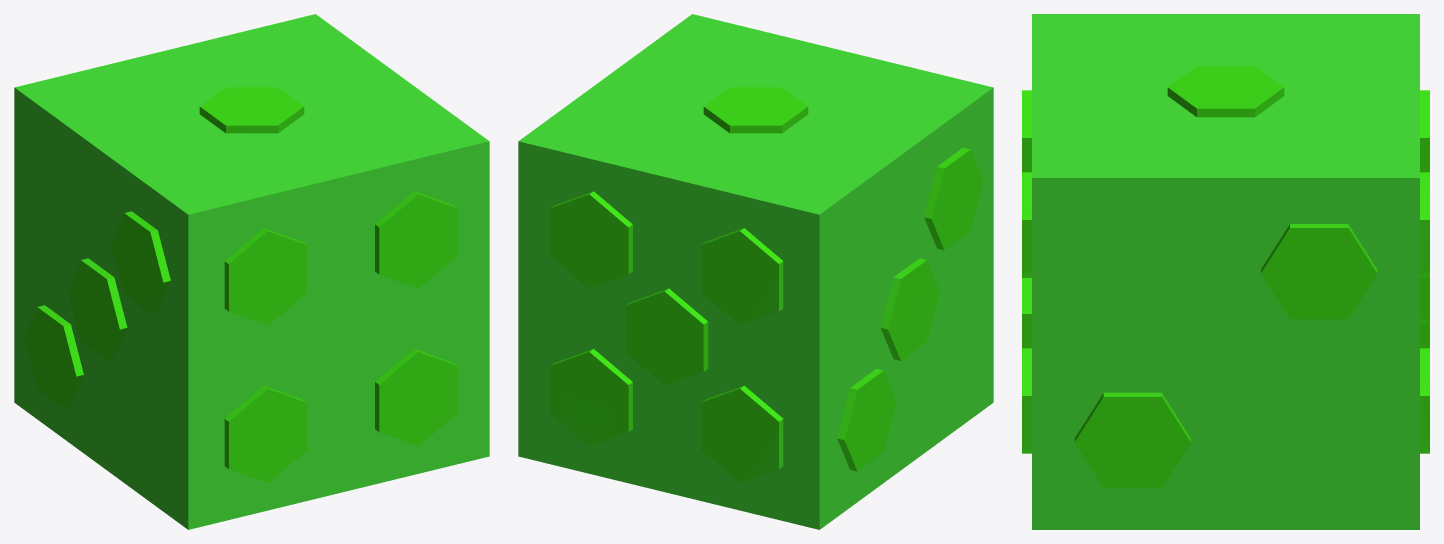
The model's file is kostka_color.gltf.
3 renders of one model, left to right at view 1: azimuth 30°, elevation 25°; view 2: azimuth 150°, elevation 25°; view 3: azimuth 270°, elevation 25°, orthographic. The views are drawn at different scales.
Visible parts, largest first — view 1: Cube; view 2: Cube; view 3: Cube.
Part boxes in pixels (box(x1,y1,x2,y2)): Cube: box(14, 14, 489, 529); Cube: box(518, 14, 993, 529); Cube: box(1022, 14, 1429, 529).
Size of the model in its own units: 2.1 by 2.1 by 2.1.
